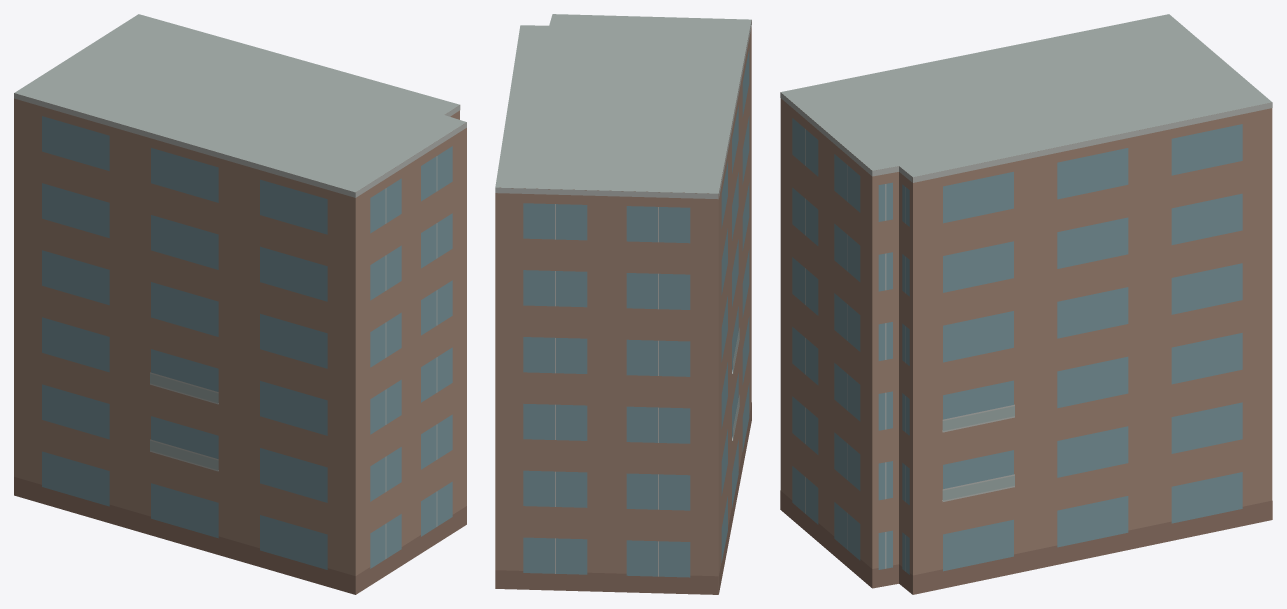
File: survey-upis-32697205.glb
3 renders of one model, left to right at view 1: azimuth 30°, elevation 25°; view 2: azimuth 150°, elevation 25°; view 3: azimuth 270°, elevation 25°, orthographic. The views are drawn at different scales.
Parts seen in each view (by area): view 1: survey-upis-32697205.tmp; view 2: survey-upis-32697205.tmp; view 3: survey-upis-32697205.tmp.
Boxes of the visible parts, x1,y1,x2,y2 form: survey-upis-32697205.tmp: [14, 14, 466, 594]; survey-upis-32697205.tmp: [495, 14, 751, 594]; survey-upis-32697205.tmp: [780, 14, 1272, 594].
Size of the model in its own units: 15.02 by 17.9 by 19.12.
